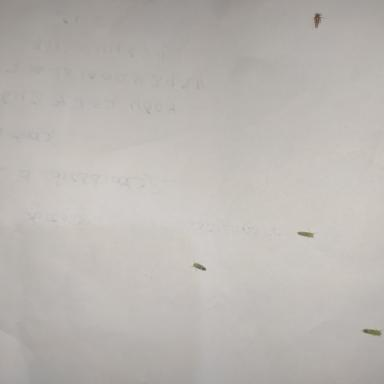pbw: (312, 13, 326, 29)
